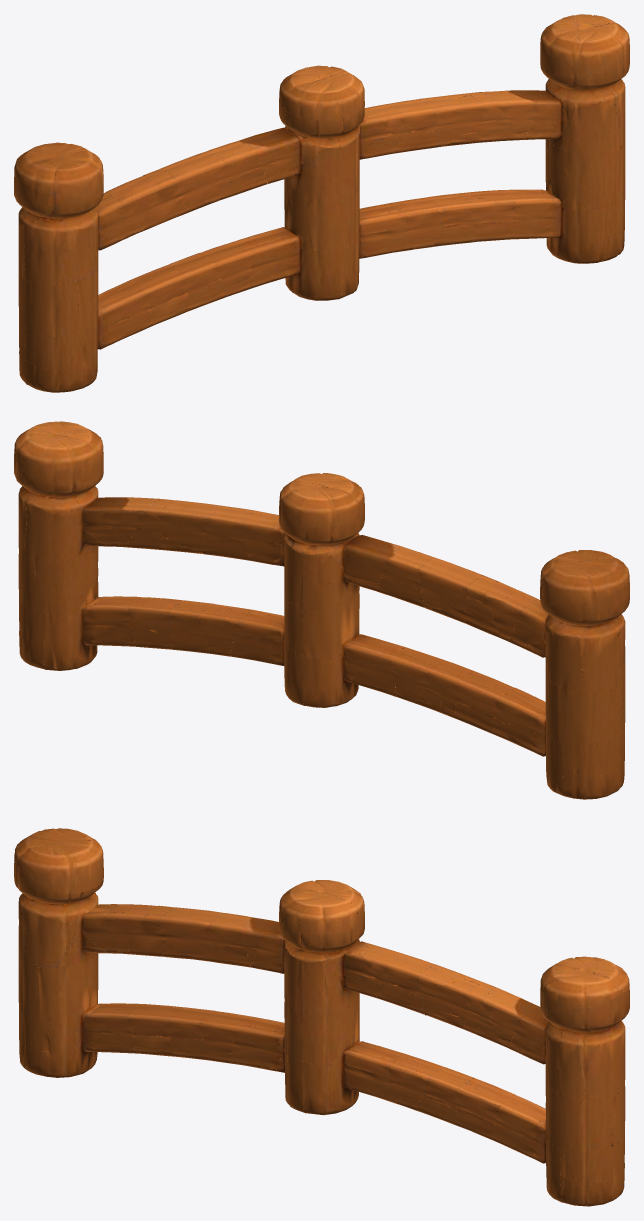
The model's file is wooden-fence.glb.
3 renders of one model, top to bottom at view 1: azimuth 30°, elevation 25°; view 2: azimuth 150°, elevation 25°; view 3: azimuth 330°, elevation 25°, orthographic.
Visible parts, largest first — view 1: mesh_node; view 2: mesh_node; view 3: mesh_node.
Part boxes in pixels (x1,y1,x2,y2): mesh_node: (14,14,629,392); mesh_node: (14,421,629,799); mesh_node: (14,828,629,1206).
Bounding box in the file's own units: 1.9 × 0.7107 × 0.2437.
Materials: 1 (1 with a texture image).
